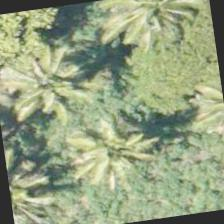Kelapa_Sawit: (66, 100, 168, 202), (0, 31, 99, 134), (153, 0, 220, 88), (106, 0, 204, 57)
